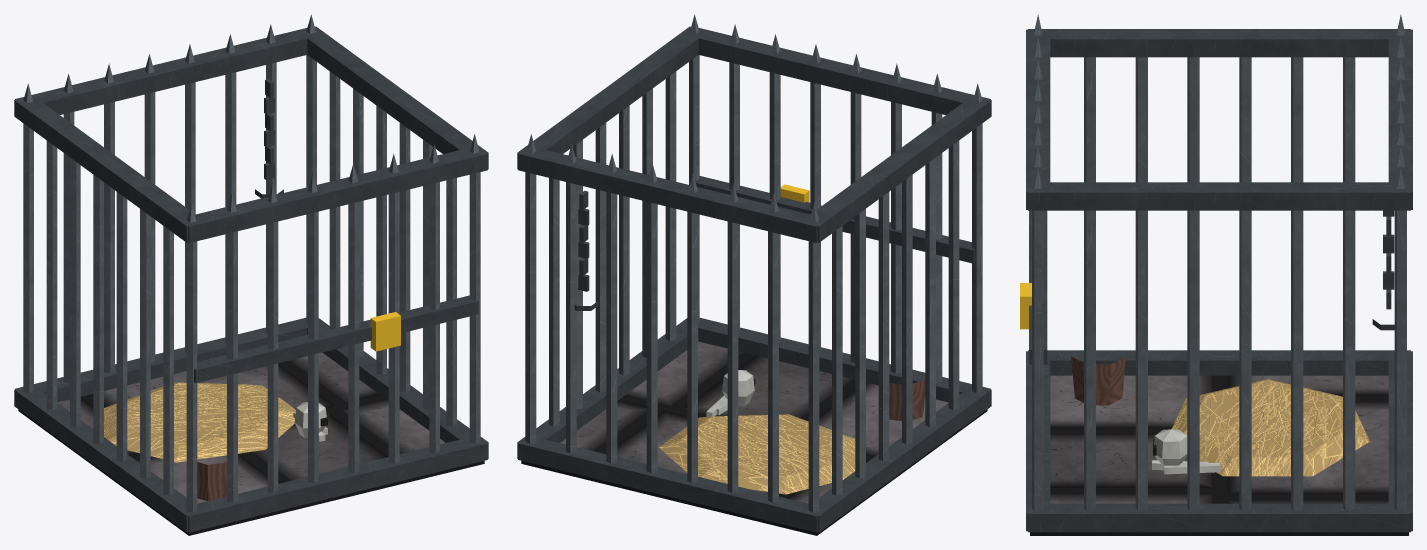
Rendered from prison.glb.
3 renders of one model, left to right at view 1: azimuth 30°, elevation 25°; view 2: azimuth 150°, elevation 25°; view 3: azimuth 270°, elevation 25°, orthographic. The views are drawn at different scales.
Parts seen in each view (by area): view 1: base_mesh; view 2: base_mesh; view 3: base_mesh.
Part boxes in pixels (x1,y1,x2,y2): base_mesh: (14, 14, 488, 535); base_mesh: (517, 14, 991, 535); base_mesh: (1020, 14, 1412, 535).
Size of the model in its own units: 0.96 by 1 by 0.975.
8 materials, 6 textured.
